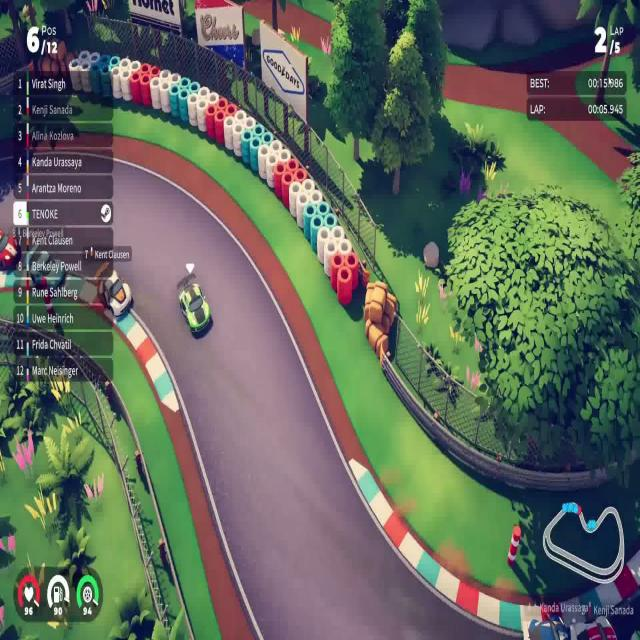car: (93, 259, 133, 316), (178, 280, 211, 336)
